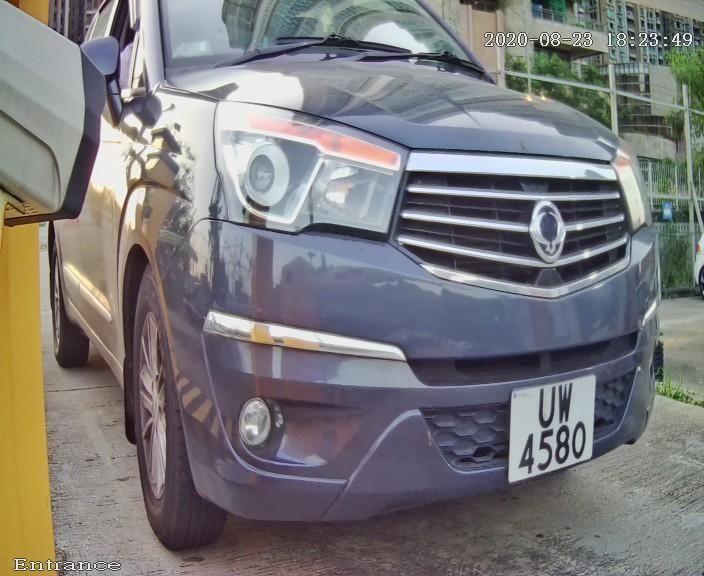Car: (51, 1, 704, 576)
License Plate: (472, 344, 614, 511)
